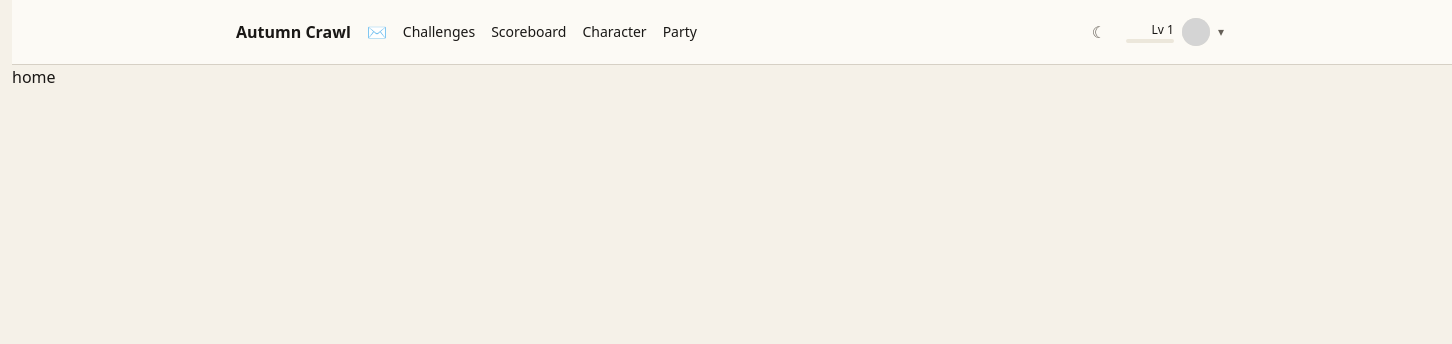
Test case: AppLayout navigation › keeps sign out and settings off the bar
Check: the link "Challenges" is shown, box left=403, top=22, right=475, bottom=42
Check: the button "sign out" is not shown
Click the button with aria-label "level" at (1175, 32), box left=1122, top=16, right=1228, bottom=48
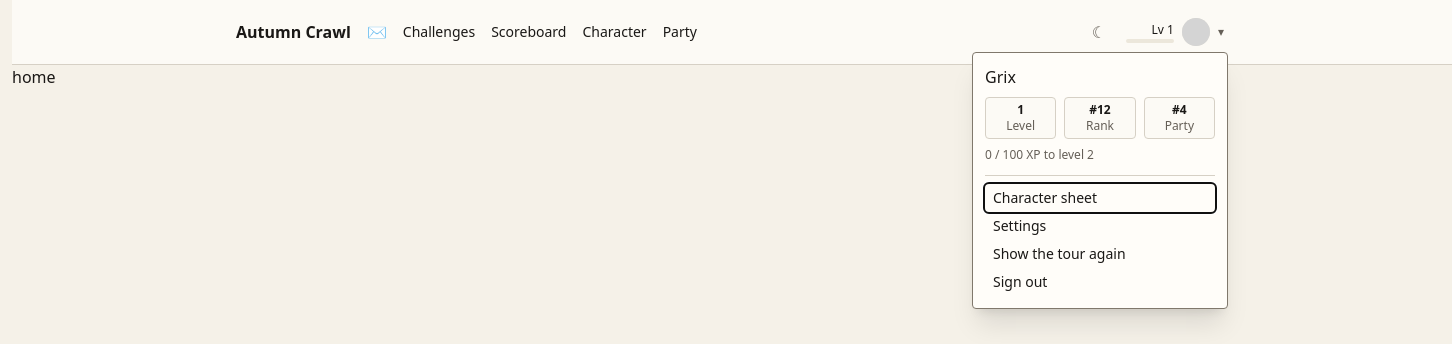
Check: the menu item "Sign out" is shown, box left=985, top=268, right=1215, bottom=296
Check: the menu item "Settings" is shown, box left=993, top=216, right=1046, bottom=235
